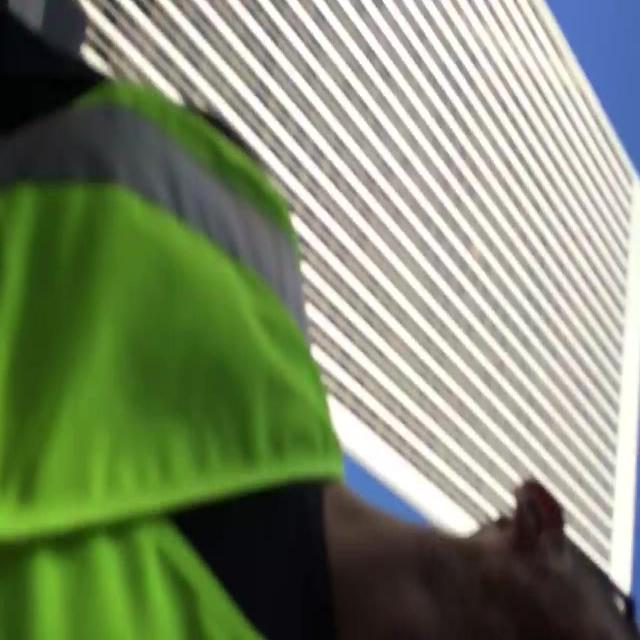Reflective-Jacket: (0, 36, 406, 640)
